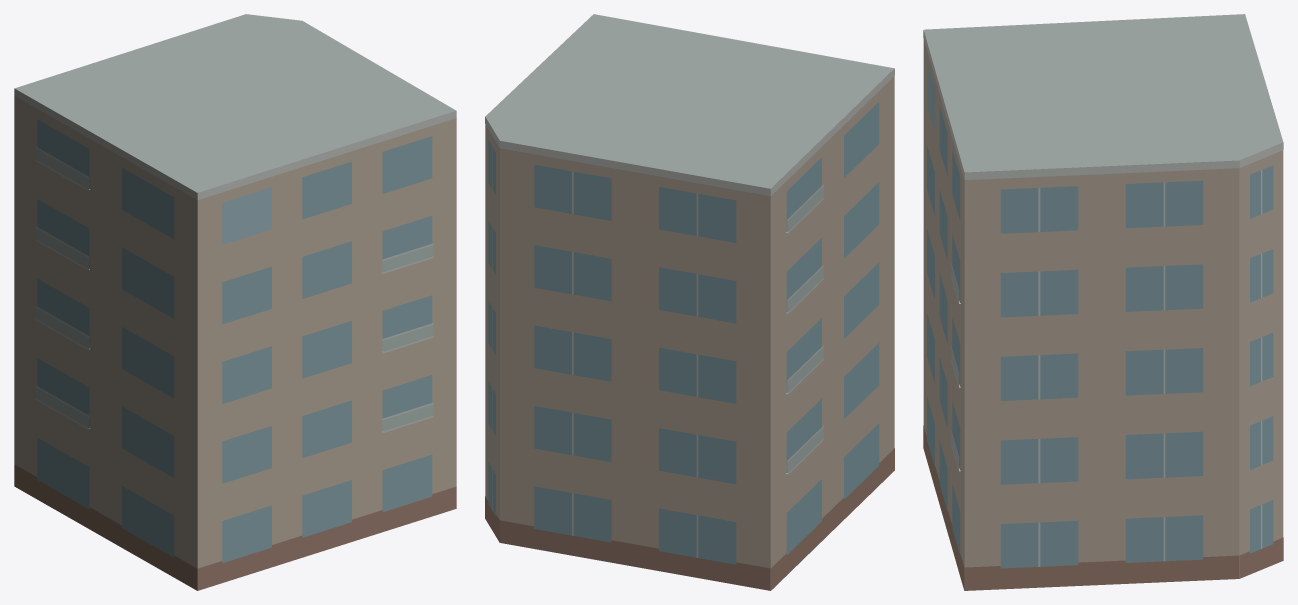
The model's file is survey-upis-32988456.glb.
3 renders of one model, left to right at view 1: azimuth 30°, elevation 25°; view 2: azimuth 150°, elevation 25°; view 3: azimuth 270°, elevation 25°, orthographic. The views are drawn at different scales.
Parts seen in each view (by area): view 1: survey-upis-32988456.tmp; view 2: survey-upis-32988456.tmp; view 3: survey-upis-32988456.tmp.
Part boxes in pixels (bbox=[...]): survey-upis-32988456.tmp: bbox=[14, 14, 456, 590]; survey-upis-32988456.tmp: bbox=[485, 14, 894, 590]; survey-upis-32988456.tmp: bbox=[923, 14, 1283, 590].
Size of the model in its own units: 10.73 by 13.2 by 10.3.
